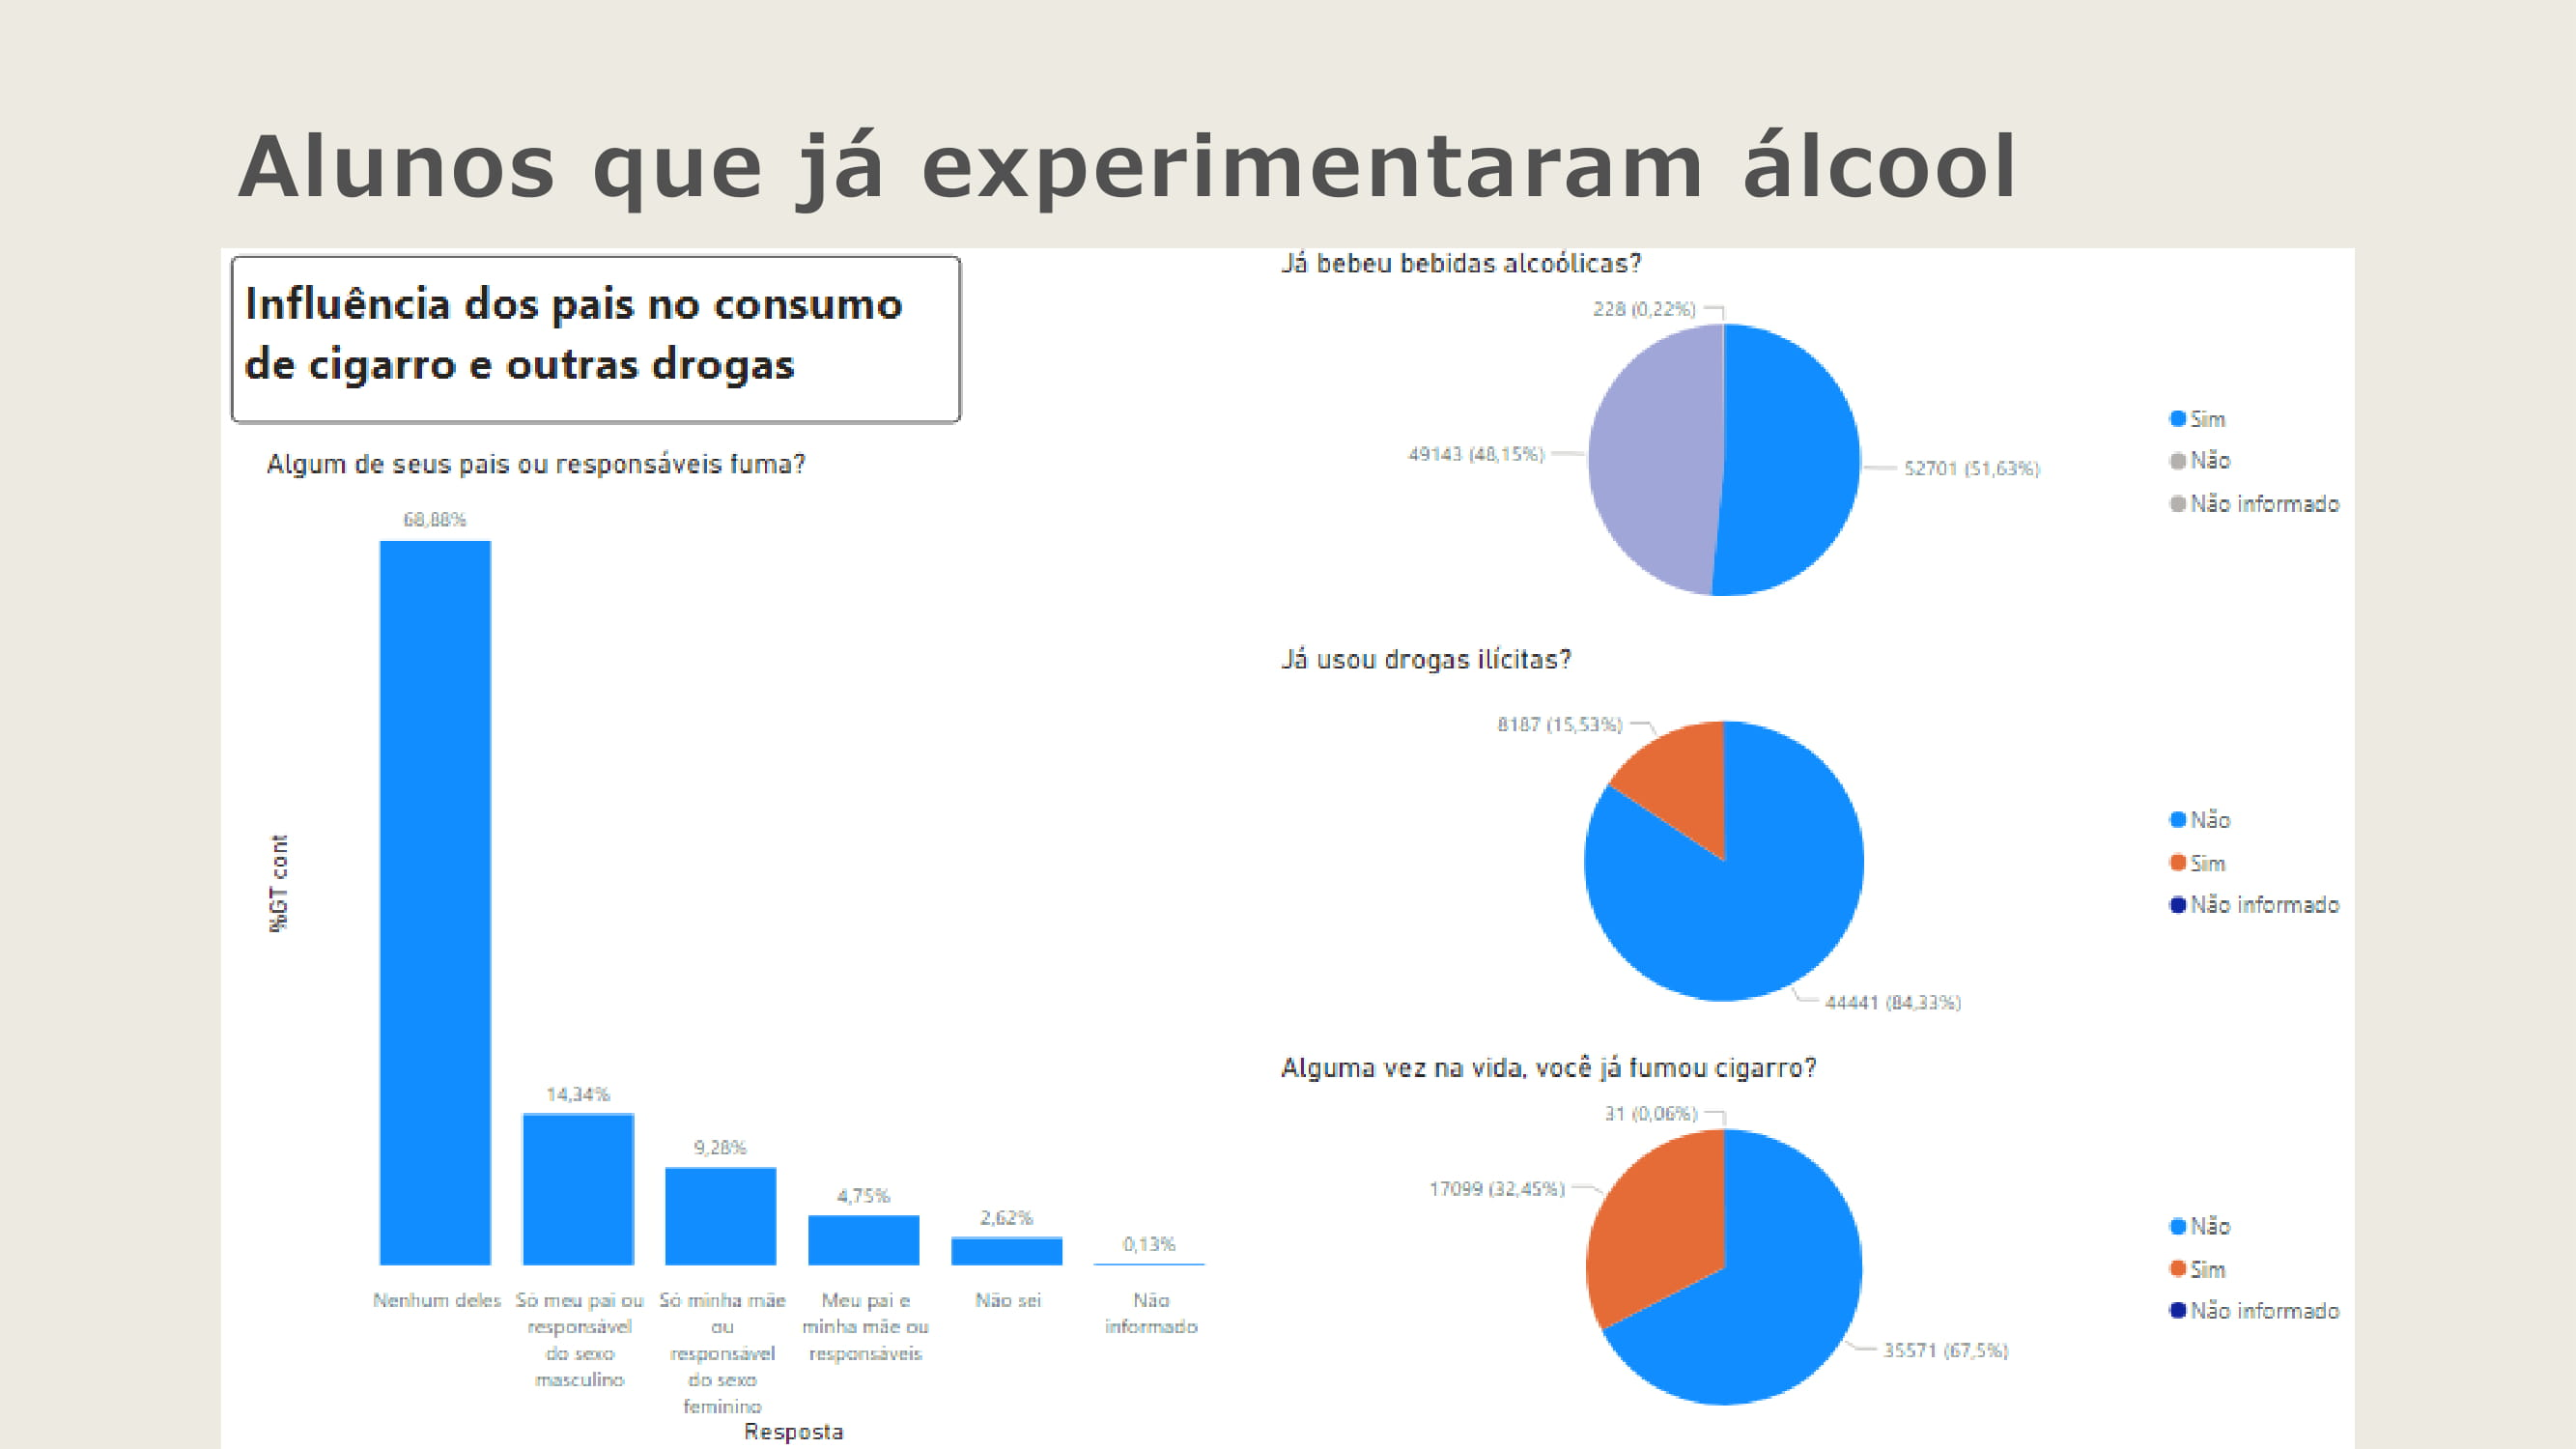

The dashboard page shown, as its layout file describes it:
{"tool":"powerbi","page":{"name":"Pais drogas","canvas":[1280,720],"ordinal":0},"visuals":[{"type":"clusteredColumnChart","title":"Algum de seus pais ou responsáveis fuma?","fields":{"Y":["Sum(Respotas_Questionario.cont)"],"Category":["P_Algum de seus pais ou responsáveis fuma?.Resposta"]},"box":[21.1,119.2,606.8,600.8],"z":0},{"type":"pieChart","title":"Alguma vez na vida, você já fumou cigarro?","fields":{"Category":["P_Já fumou cigarro?.Resposta"],"Y":["Sum(Respotas_Questionario.cont)"]},"box":[627.9,480,652.1,240],"z":1000},{"type":"textbox","box":[5.8,5.8,435.8,99.6],"z":2000},{"type":"pieChart","title":"Já bebeu bebidas alcoólicas?","fields":{"Y":["Sum(Respotas_Questionario.cont)"],"Category":["P_Já usou álcool?.Resposta"]},"box":[627.9,0,652.1,237],"z":3000},{"type":"pieChart","title":"Já usou drogas ilícitas?","fields":{"Category":["P_Já usou drogas ilícitas?.Resposta"],"Y":["Sum(Respotas_Questionario.cont)"]},"box":[627.9,237,652.1,243],"z":4000}]}

Visuals, with their boxes in screenshot pixels (x1, y1, x2, y2), scaled from the page's 1280x720 canvas onto the 2576x1449 screenshot:
"Algum de seus pais ou responsáveis fuma?" clusteredColumnChart: pyautogui.locateOnScreen(42, 240, 1263, 1448)
"Alguma vez na vida, você já fumou cigarro?" pieChart: pyautogui.locateOnScreen(1263, 966, 2575, 1448)
textbox: pyautogui.locateOnScreen(12, 12, 889, 213)
"Já bebeu bebidas alcoólicas?" pieChart: pyautogui.locateOnScreen(1263, 0, 2575, 477)
"Já usou drogas ilícitas?" pieChart: pyautogui.locateOnScreen(1263, 477, 2575, 966)
